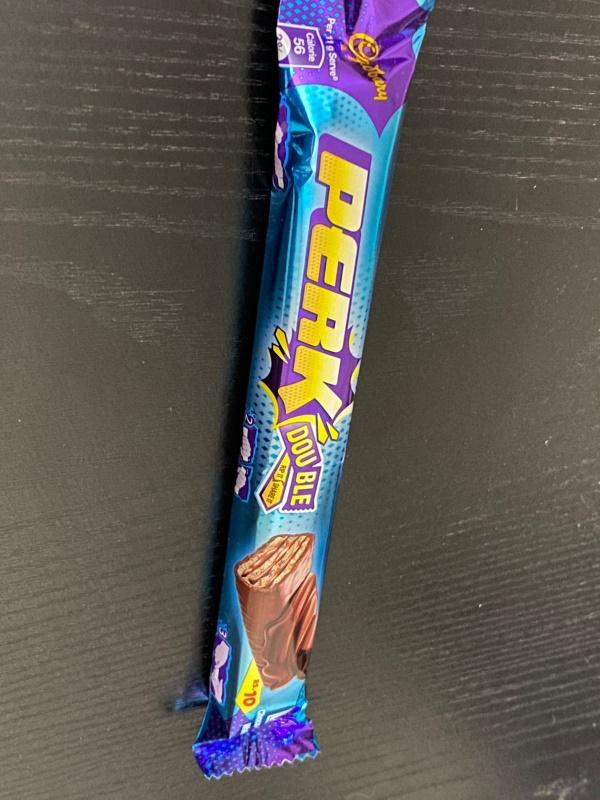Perk: (199, 2, 419, 776)
